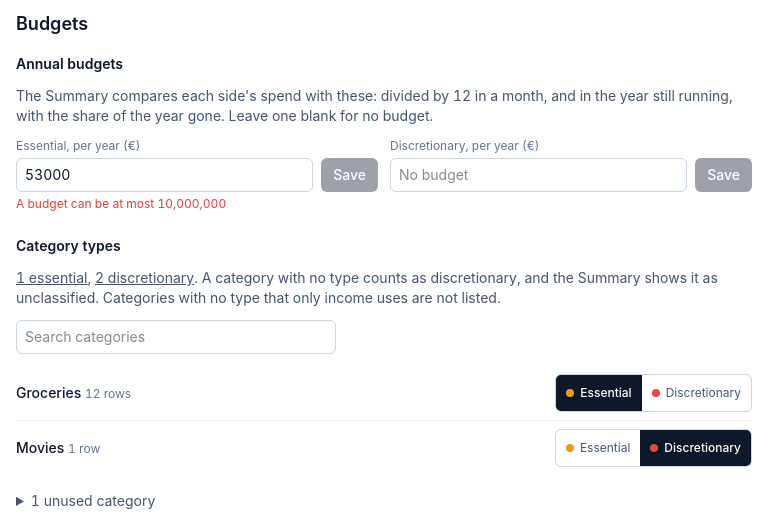
Scenario: the Budgets page › saves a category's type when its switch is pressed
The width and height of the screenshot is (769, 526).
Click the button "Essential" in the row of "Movies": (598, 448) [556,430,640,466]
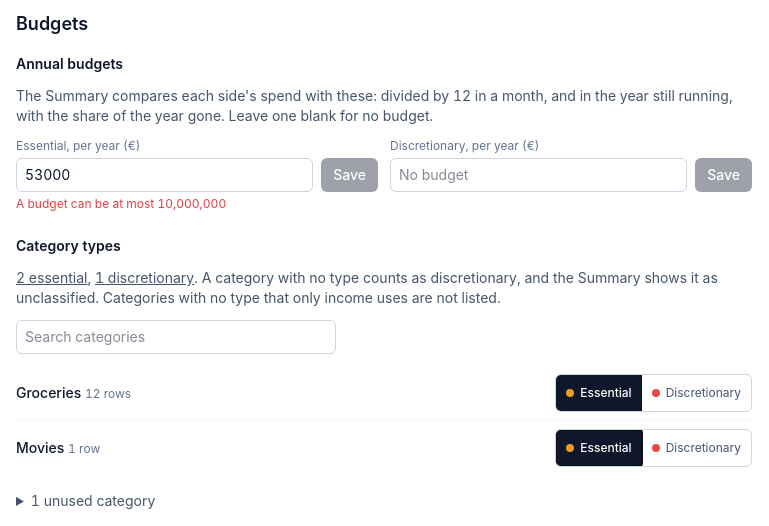
Expected: the button "Essential" in the row of "Groceries" is shown, [556,375,642,411]
Now the link "2 essential" is shown, box [16,269,87,286]
Now the link "1 discretionary" is shown, box [95,269,194,286]
